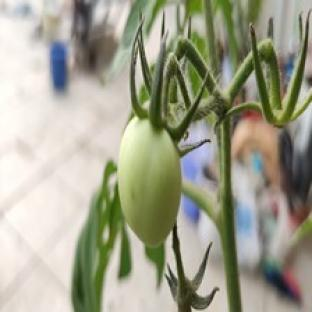Tomato: (119, 117, 181, 246)
